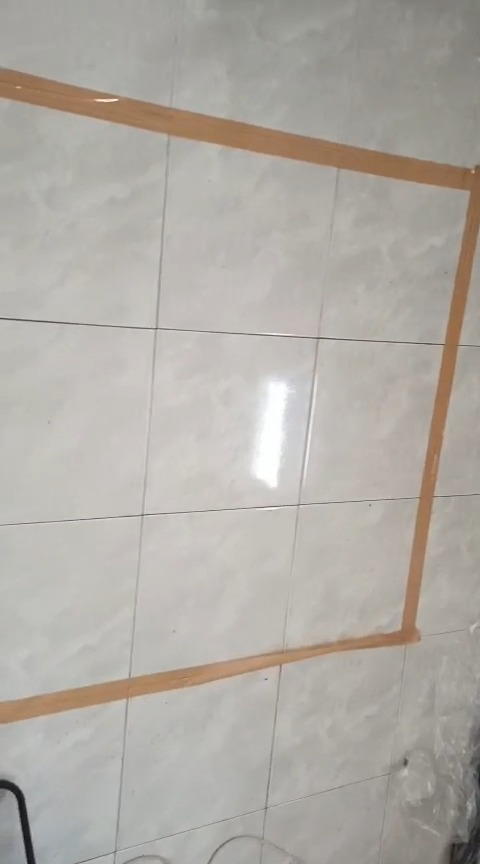floor marking: (0, 70, 479, 721)
